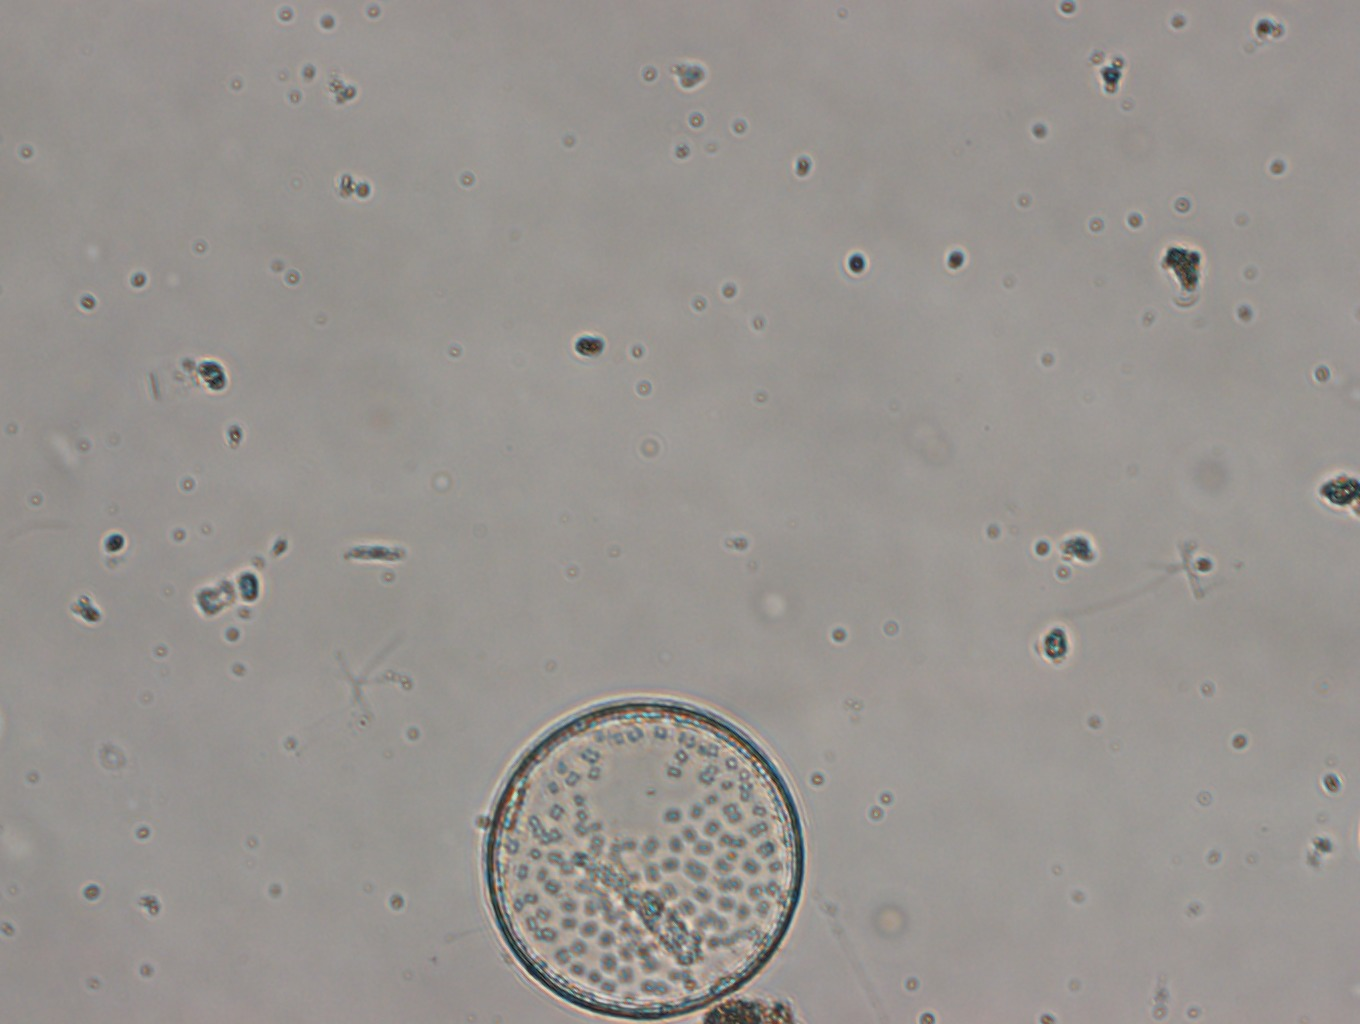coscinodiscus: (479, 695, 808, 1018)
